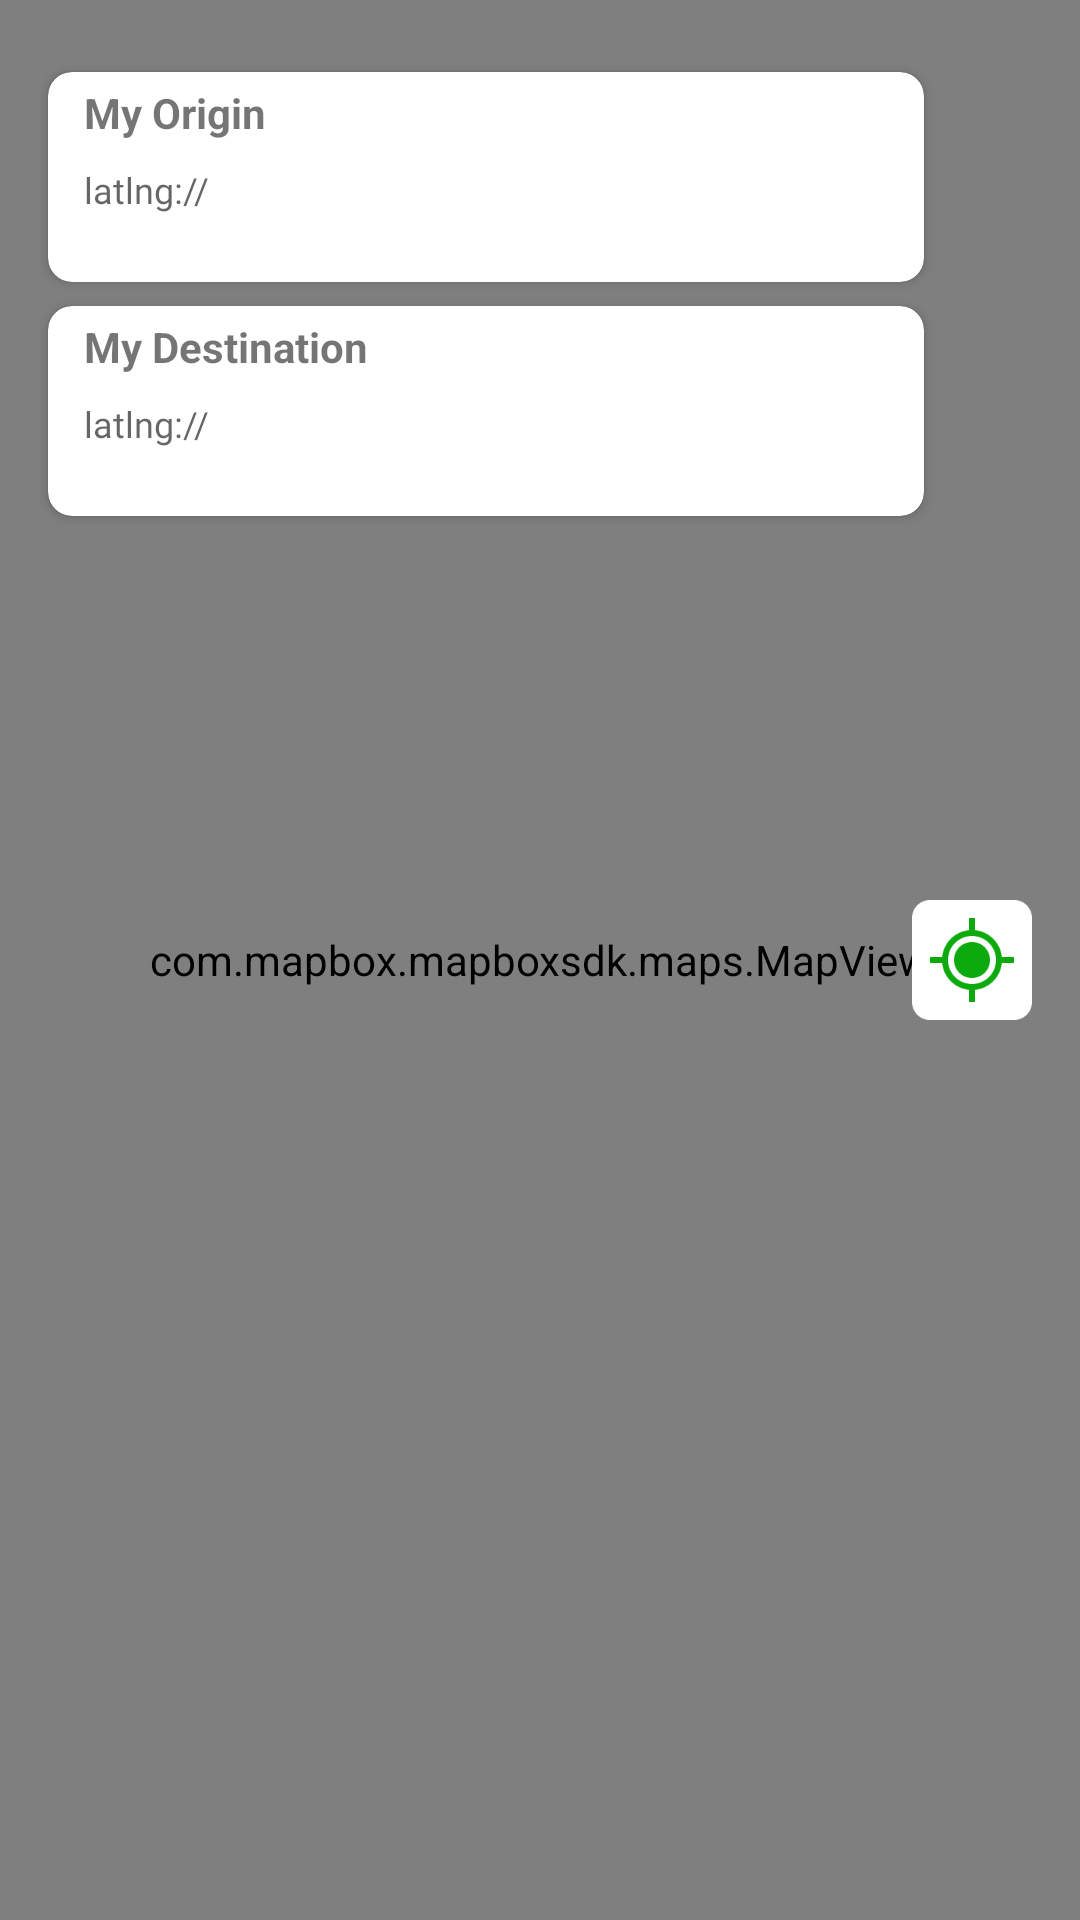

Where to tap for icons on this 1080w x 1920h app screen, as (x=x, y=y):
location: (x=972, y=960)
